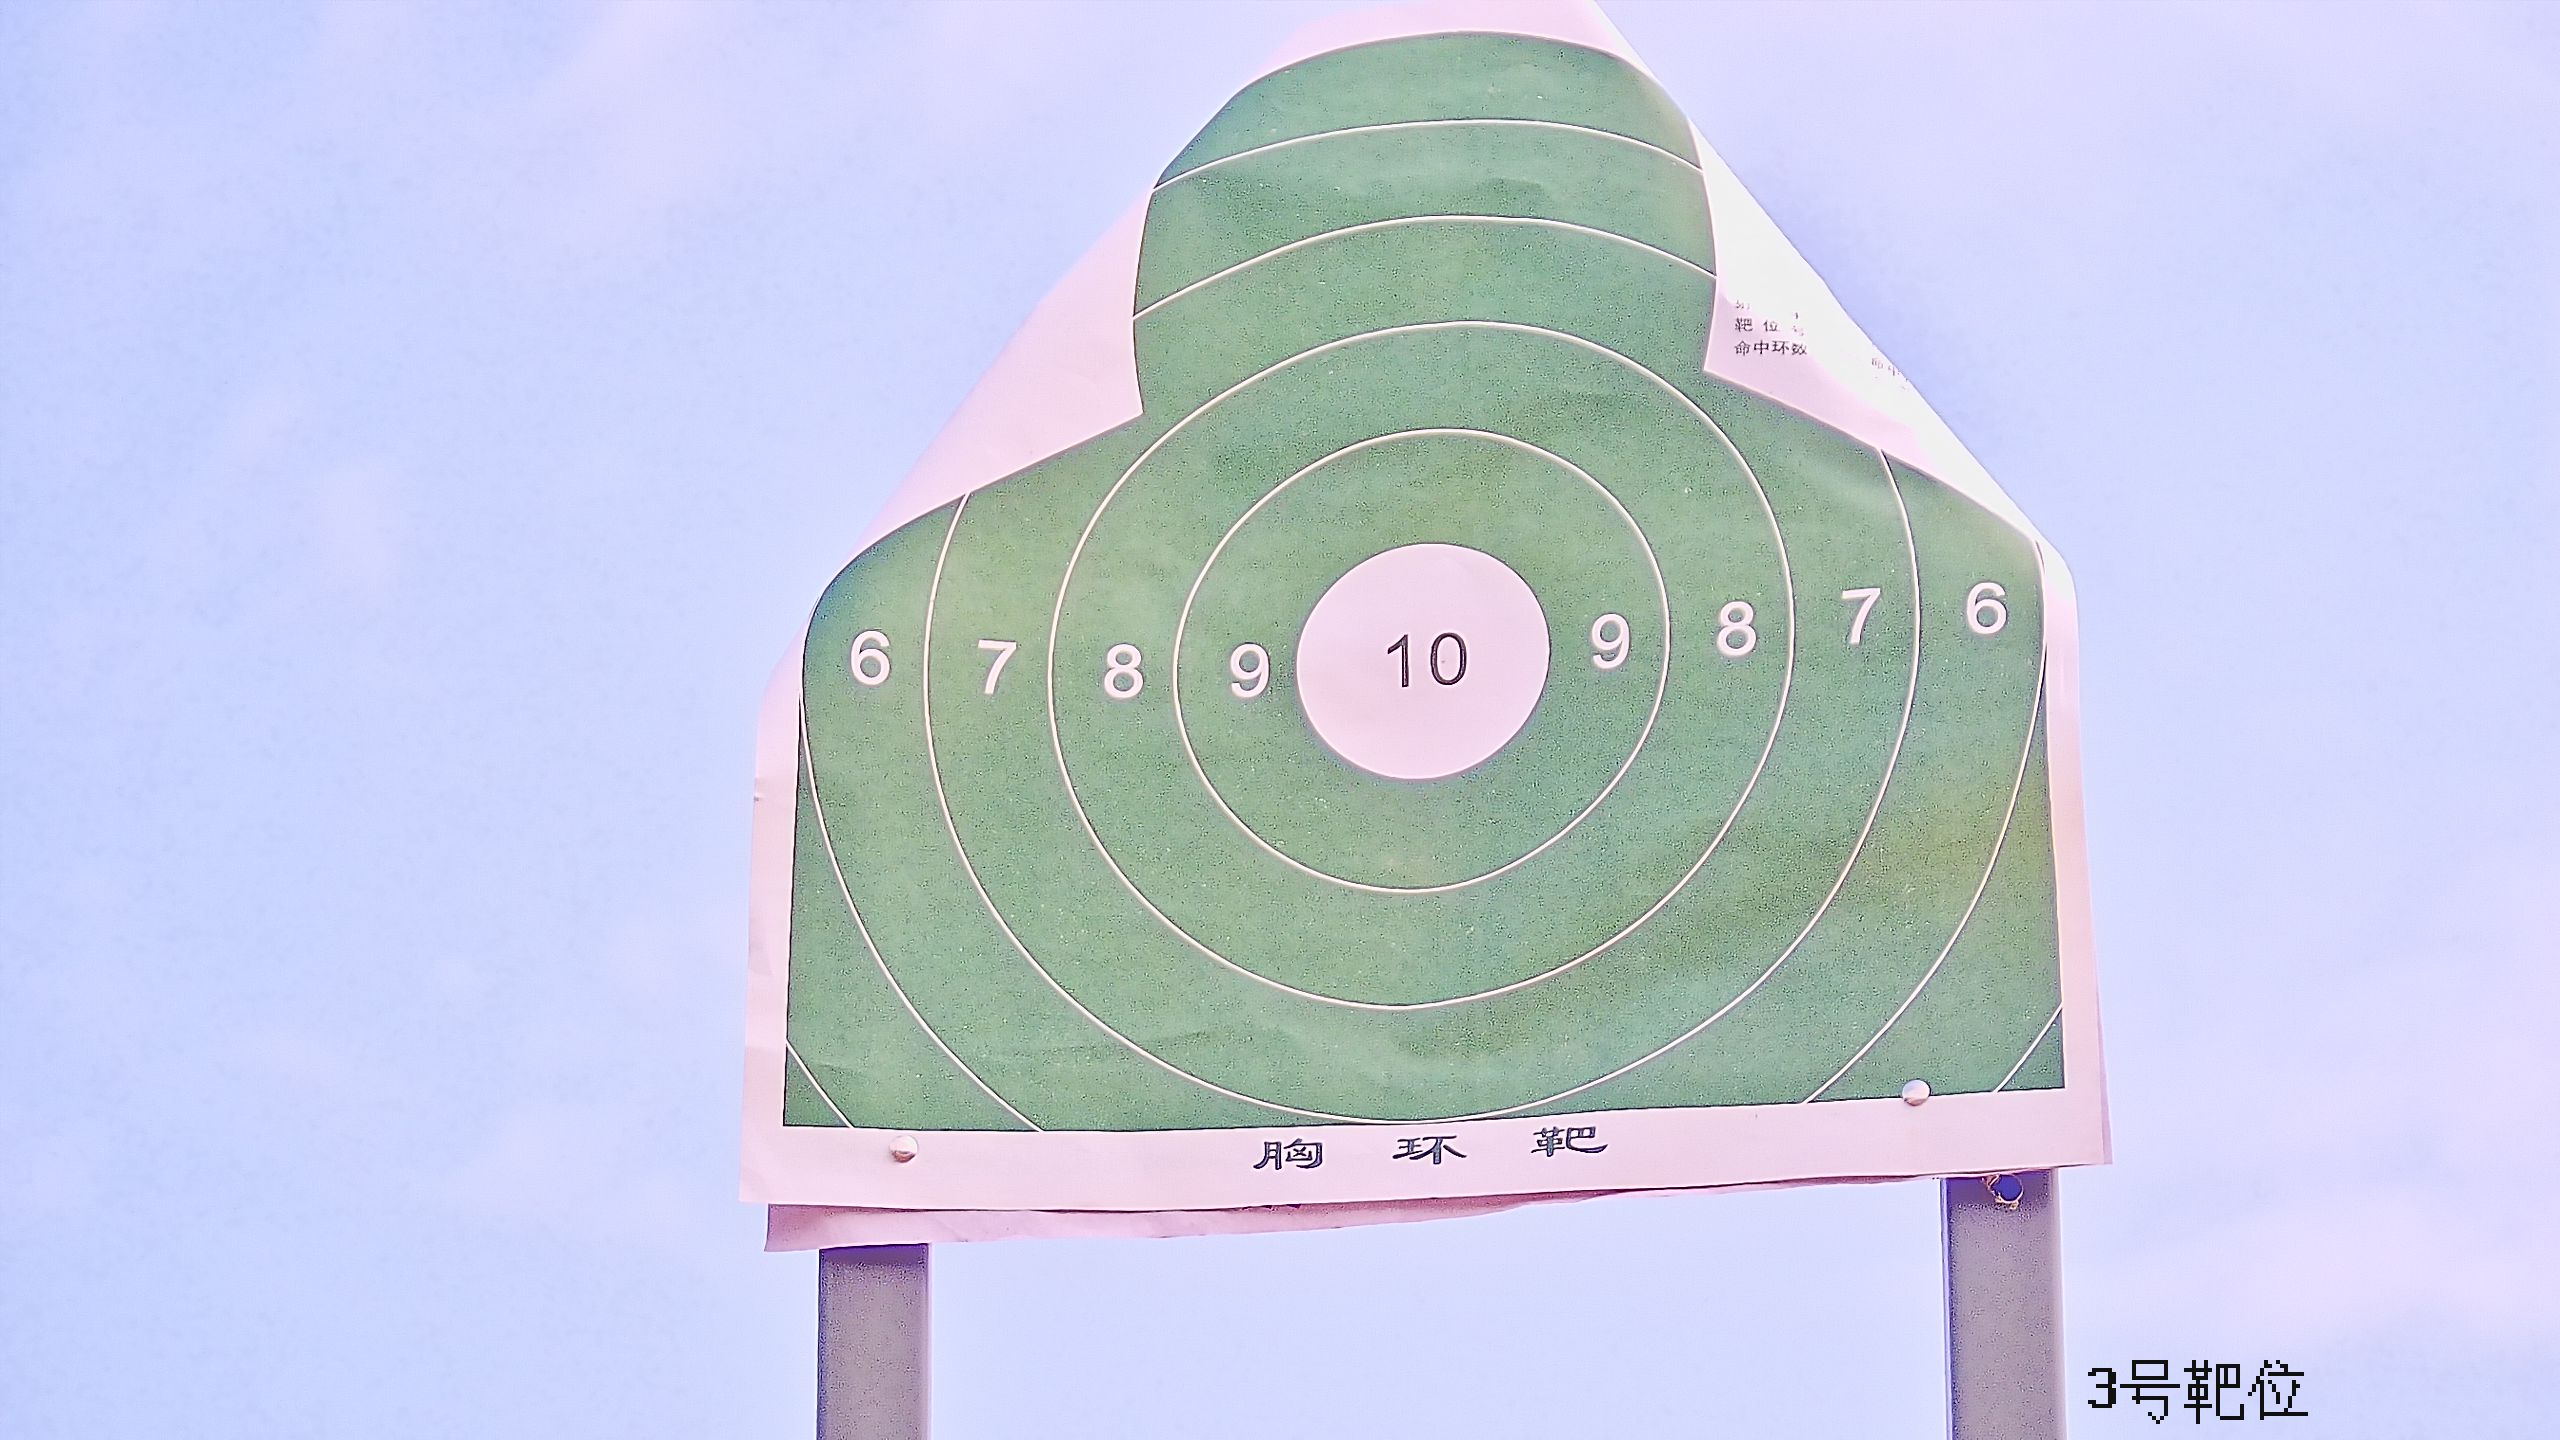kernel: (1421, 666, 1428, 668)
target: (789, 16, 2073, 1116)
ten: (1292, 547, 1547, 782)
